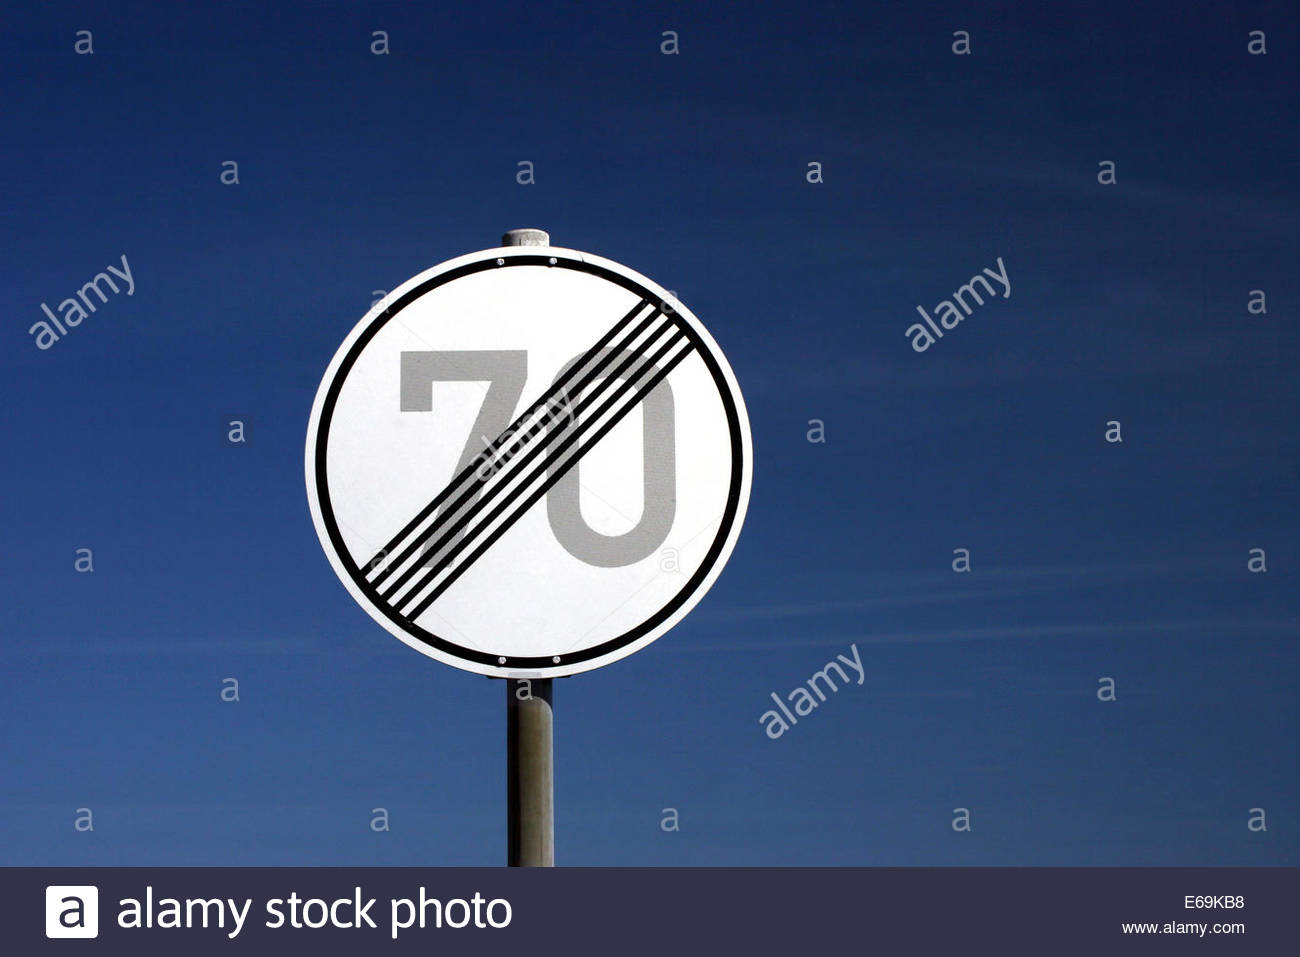aufgehoben: (305, 245, 753, 682)
